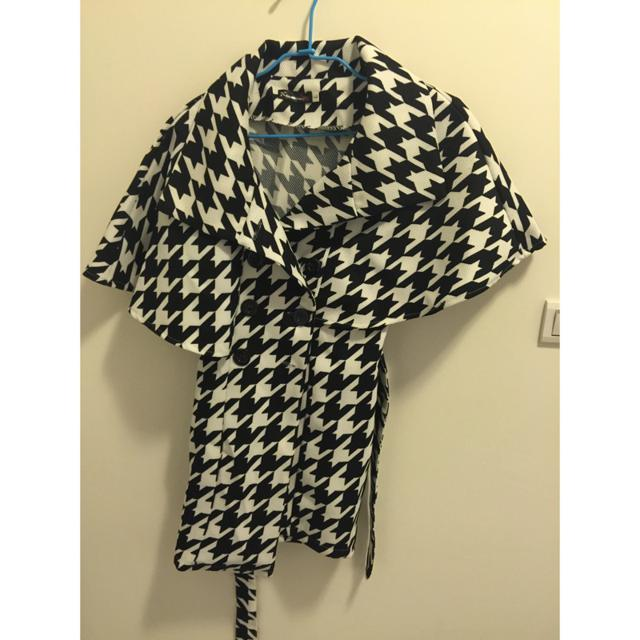Tops: (96, 40, 545, 577)
